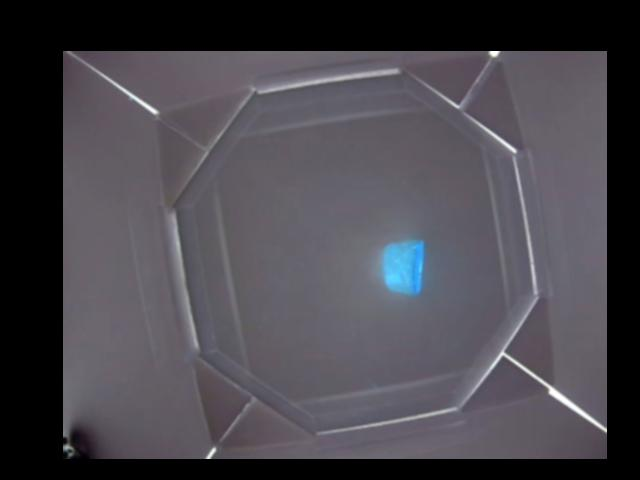Carrot: (383, 240, 425, 294)
